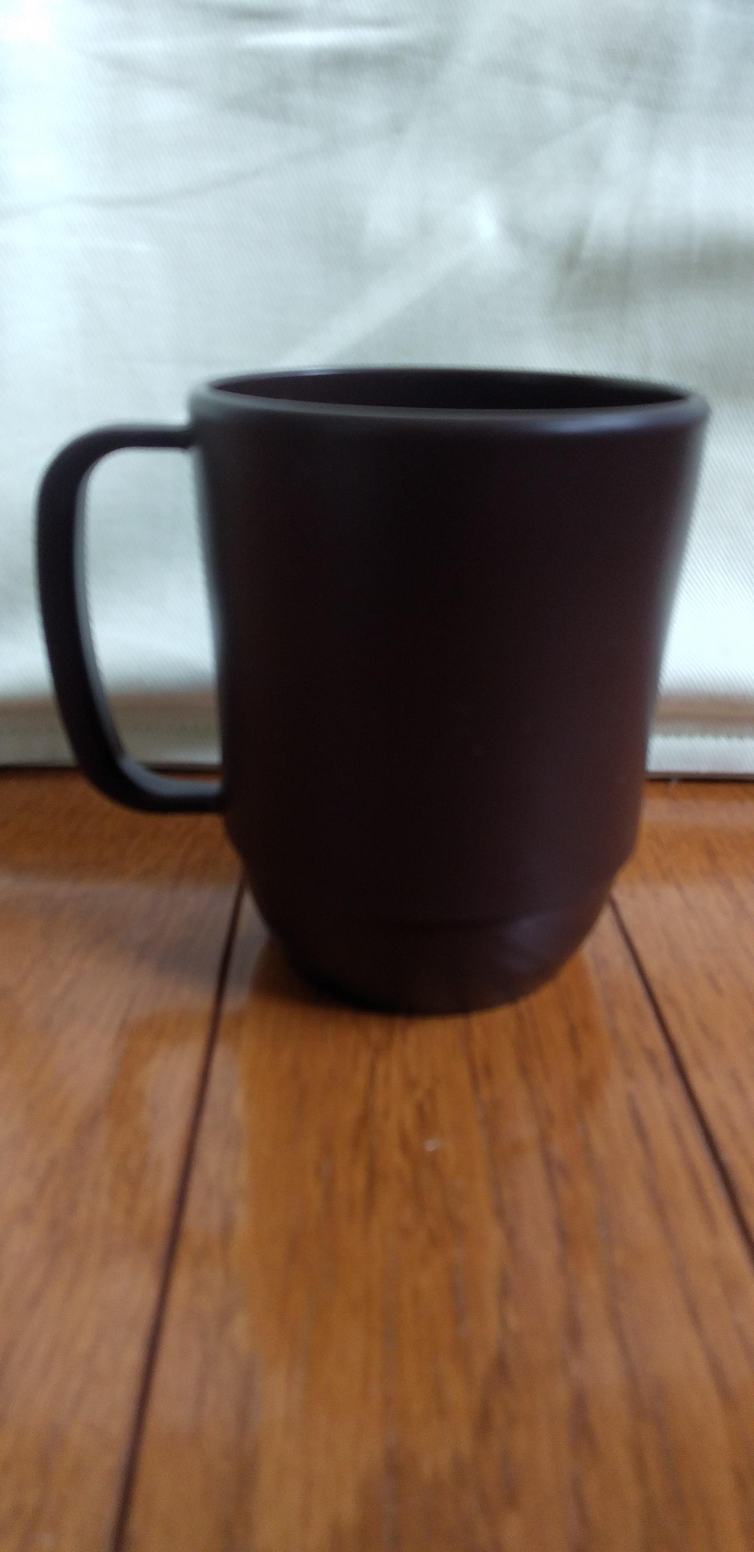mug-real100-3d100: (37, 368, 708, 1015)
